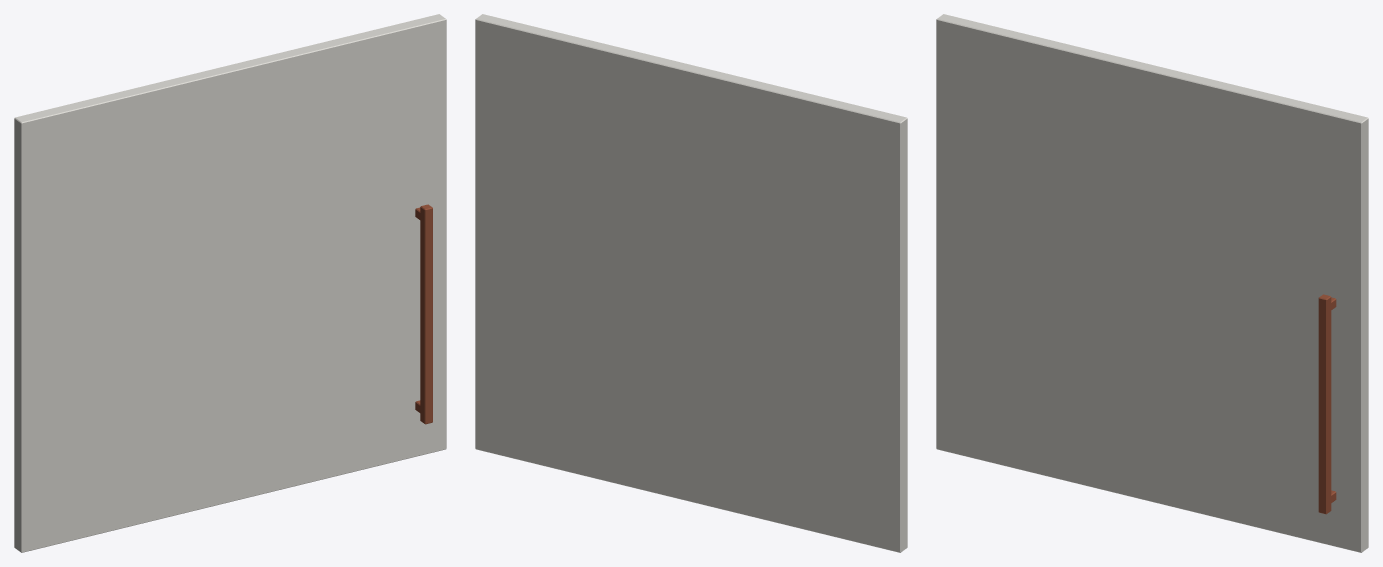
Rendered from kitchen_run_appliances_long_fridge_door.glb.
3 renders of one model, left to right at view 1: azimuth 30°, elevation 25°; view 2: azimuth 150°, elevation 25°; view 3: azimuth 330°, elevation 25°, orthographic.
Visible parts, largest first — view 1: kitchen_run_appliances_long_fridge_door; view 2: kitchen_run_appliances_long_fridge_door; view 3: kitchen_run_appliances_long_fridge_door.
Boxes of the visible parts, x1,y1,x2,y2 form: kitchen_run_appliances_long_fridge_door: (14,14,446,552); kitchen_run_appliances_long_fridge_door: (475,14,907,552); kitchen_run_appliances_long_fridge_door: (936,14,1368,552).
Size of the model in its own units: 0.597 by 0.577 by 0.044.
